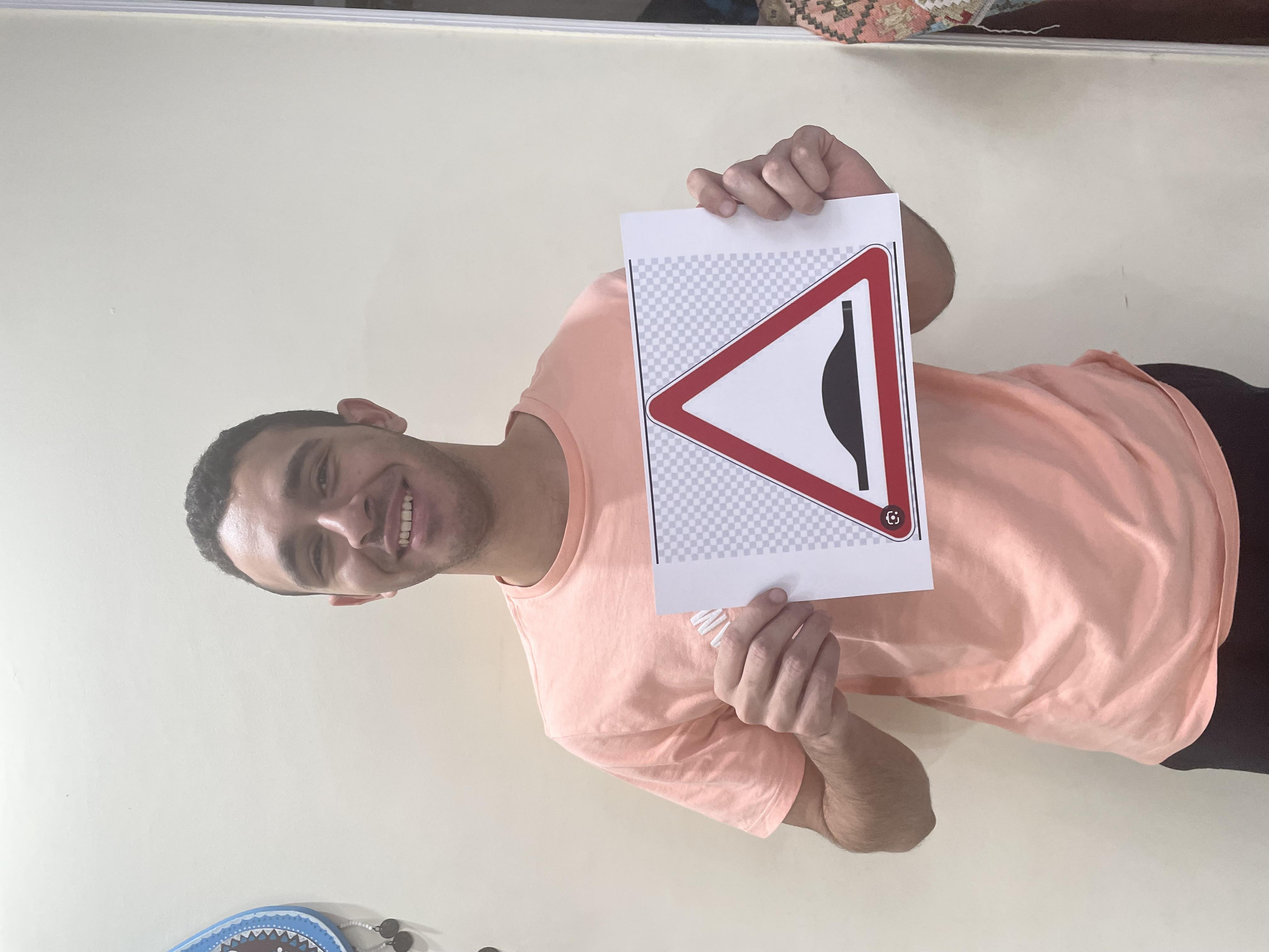Hump: (546, 484, 953, 687)
